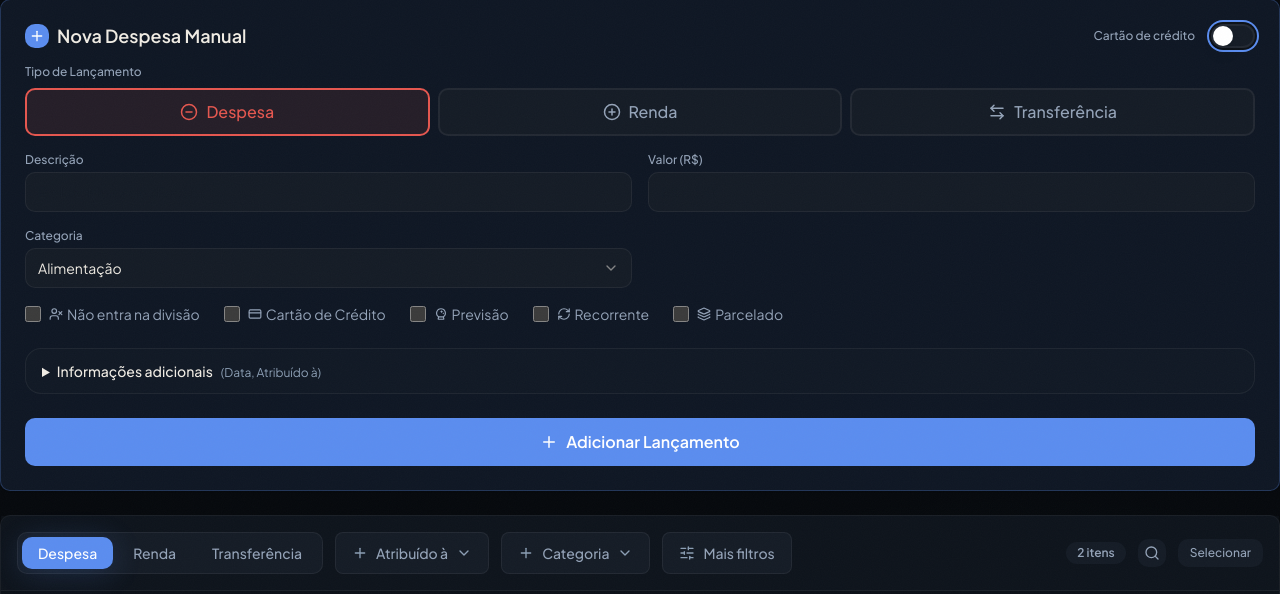
it: TransactionsView › Filters and search › search input filters list
Click the button named "Buscar lançamentos": (1152, 553) [1138,539,1166,567]
(page scrolled)
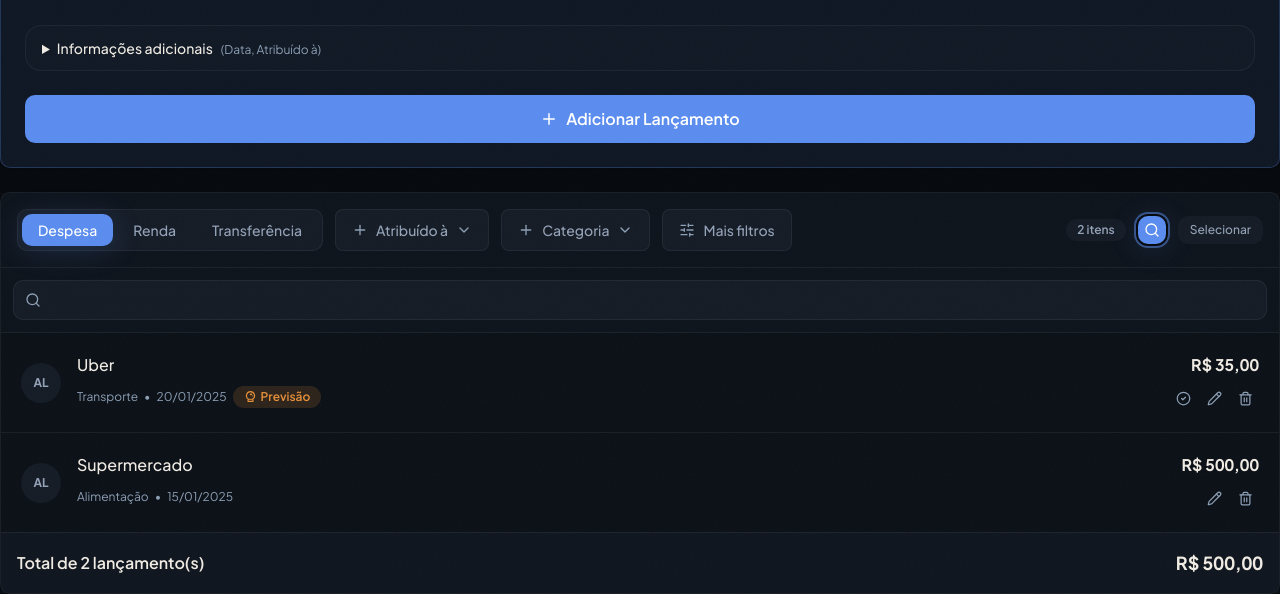
In the field with placeholder "Buscar por descrição, categoria, pessoa...": (640, 300) [13,280,1267,320], type "Uber"
(page scrolled)
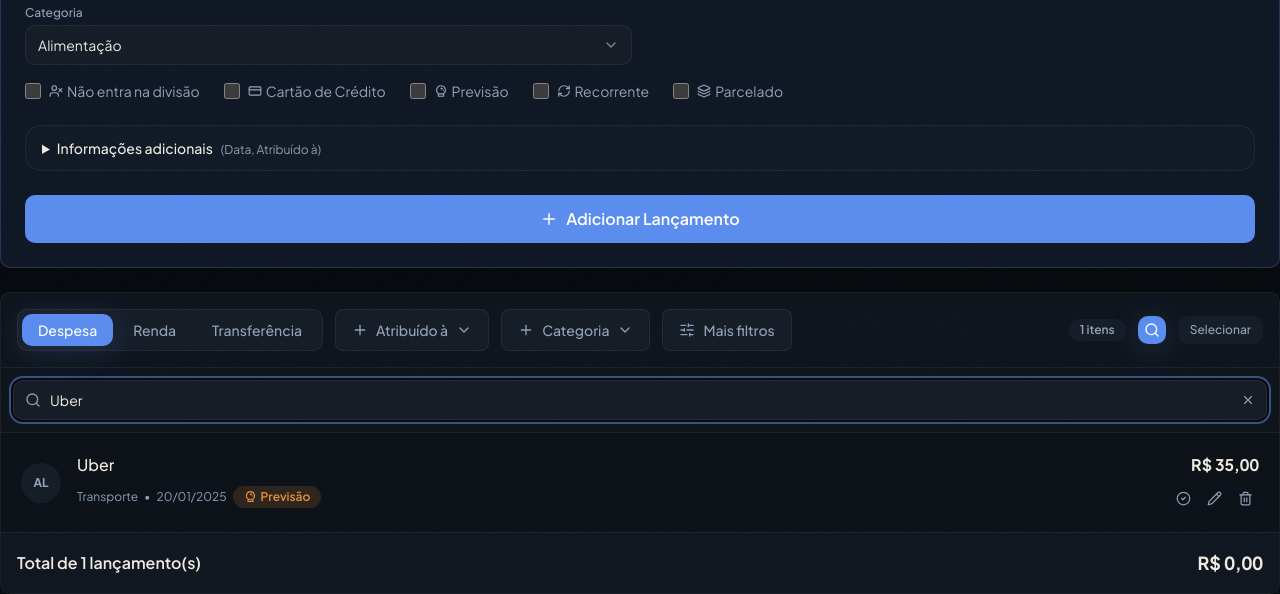
Expected: the heading "Uber" is shown, [77,453,114,477]
Now the heading "Supermercado" is gone
